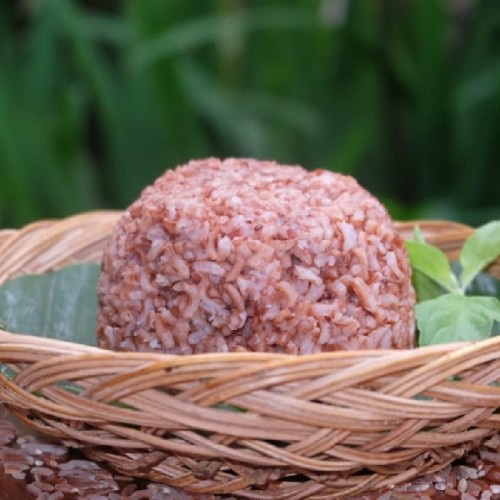Nasi Merah: (104, 161, 417, 401)
